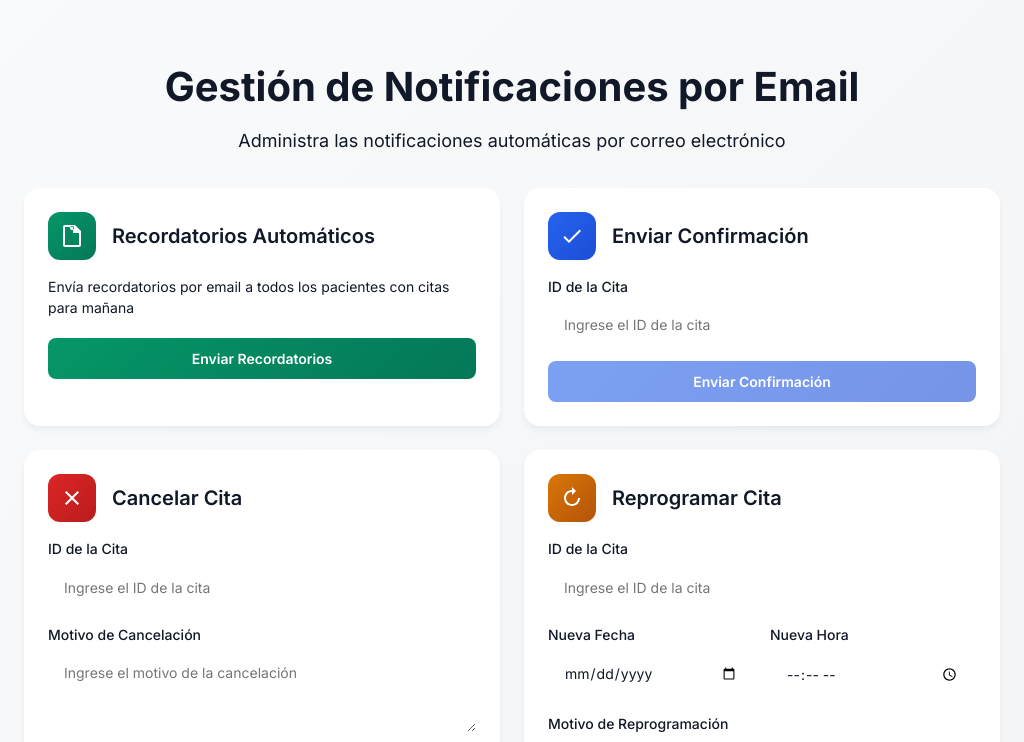
GestionEmails › envía email de confirmación y muestra resultado
Type "123" into the 1st number field with placeholder "Ingrese el ID de la cita" at (762, 325), box [548, 304, 976, 345]
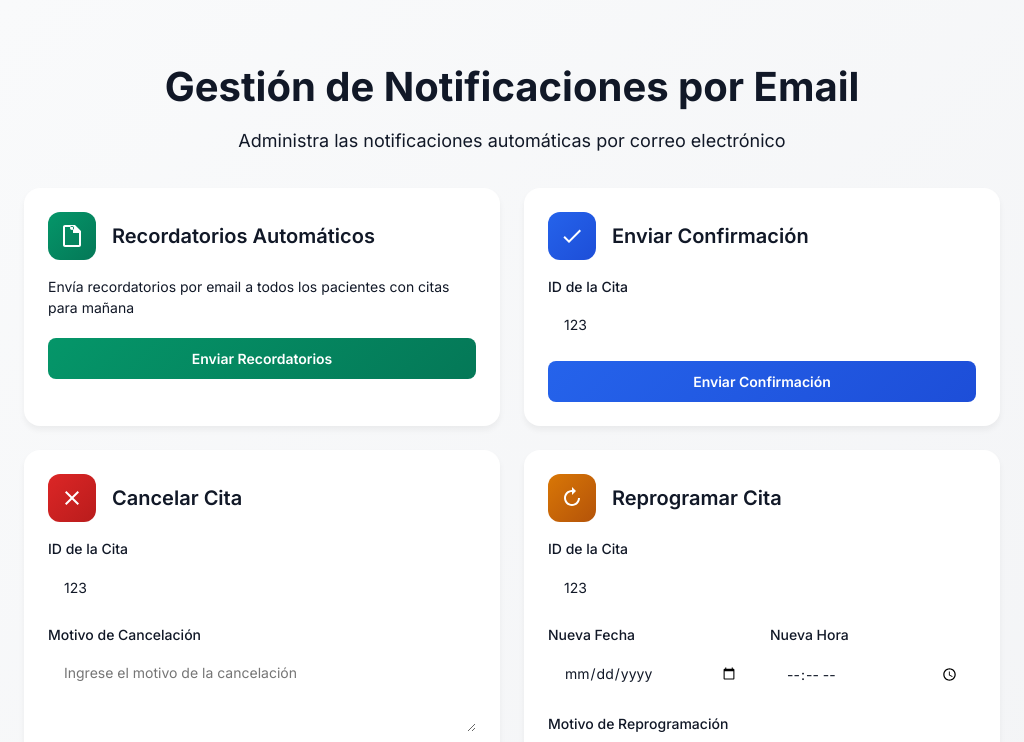
Click the button "Enviar Confirmación" at (762, 382), box [548, 361, 976, 402]
(page scrolled)
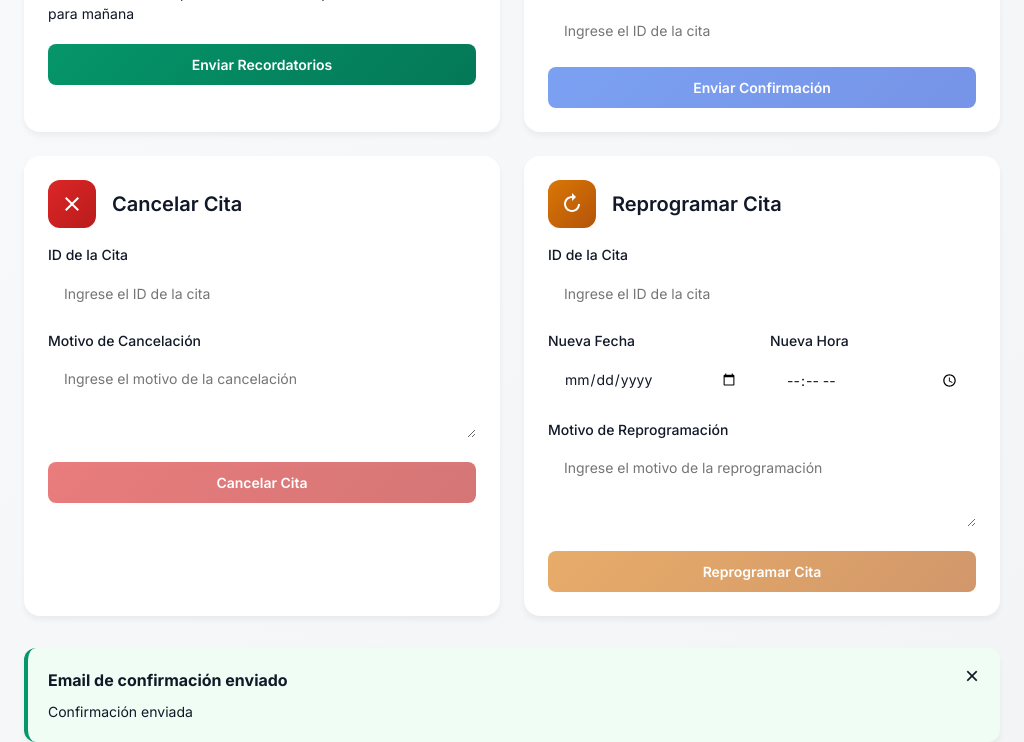
Now the text "Email de confirmación enviado" is shown, box [48, 670, 288, 690]
Now the text "Confirmación enviada" is shown, box [48, 703, 193, 720]
